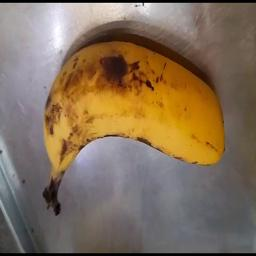Banana Semirotten: (44, 28, 246, 189)
